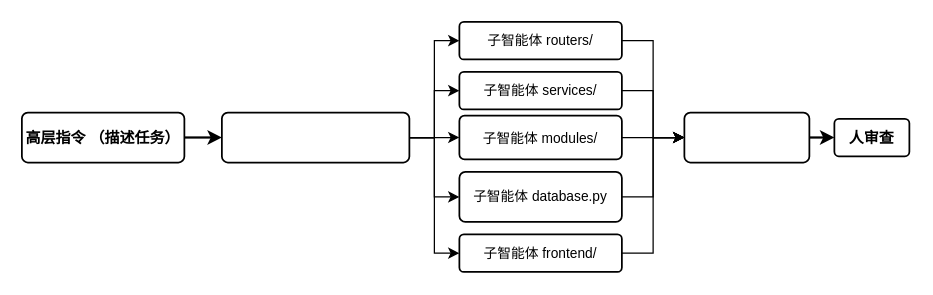
This 933x295 diagram has some shape labels left out. The centre of each missing label's shape, as x and y in pixels:
主智能体 （规划 & 派发）: point (315, 137)
结构化报告 汇总: point (746, 137)
